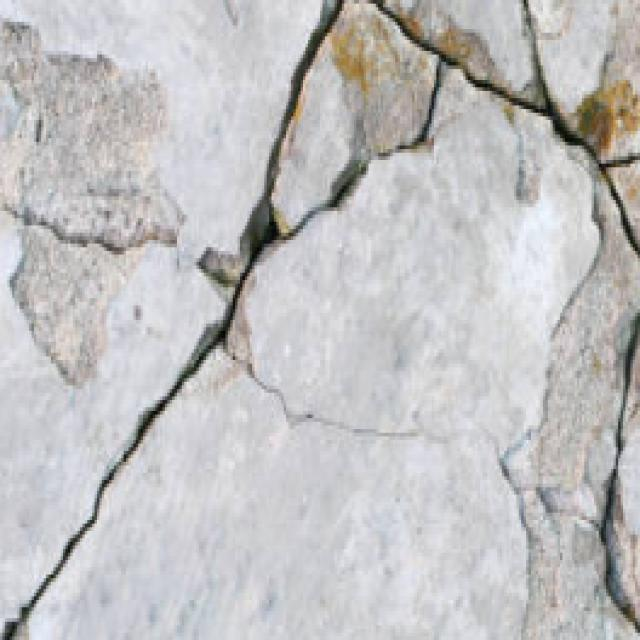branched cracks: (0, 0, 419, 639), (367, 0, 639, 318), (588, 310, 639, 635), (129, 225, 177, 247)
